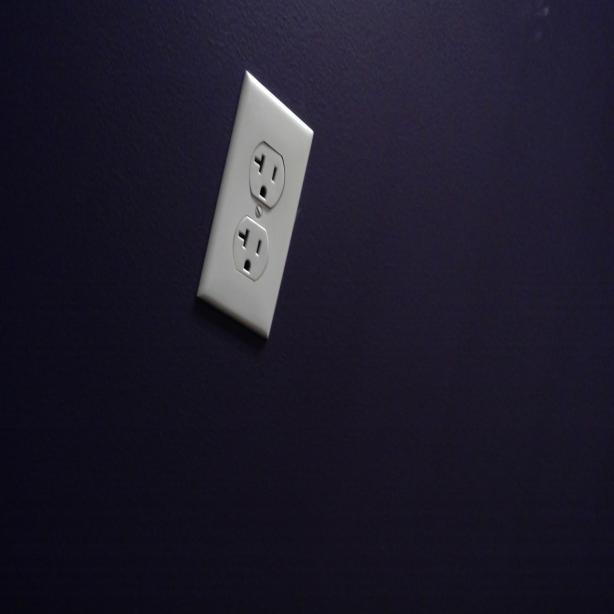typeb: (233, 214, 269, 280), (249, 142, 286, 203)
